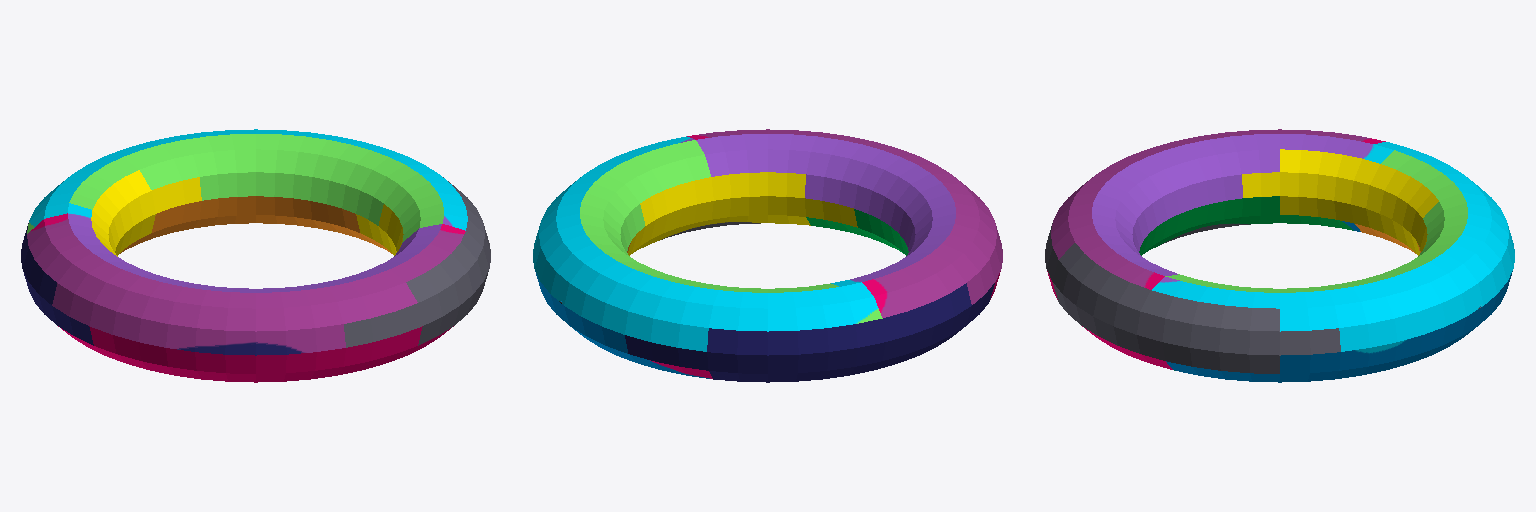
3 views of the same model, side by side, from view 1: azimuth 30°, elevation 25°; view 2: azimuth 150°, elevation 25°; view 3: azimuth 270°, elevation 25° (orthographic).
Visible parts, largest first — view 1: Torus; view 2: Torus; view 3: Torus.
Part boxes in pixels (x1,y1,x2,y2): Torus: (21, 129, 490, 382); Torus: (533, 129, 1002, 382); Torus: (1045, 129, 1514, 382).
Bounding box in the file's own units: 2.5 × 0.5 × 2.5.
1 materials, 1 textured.